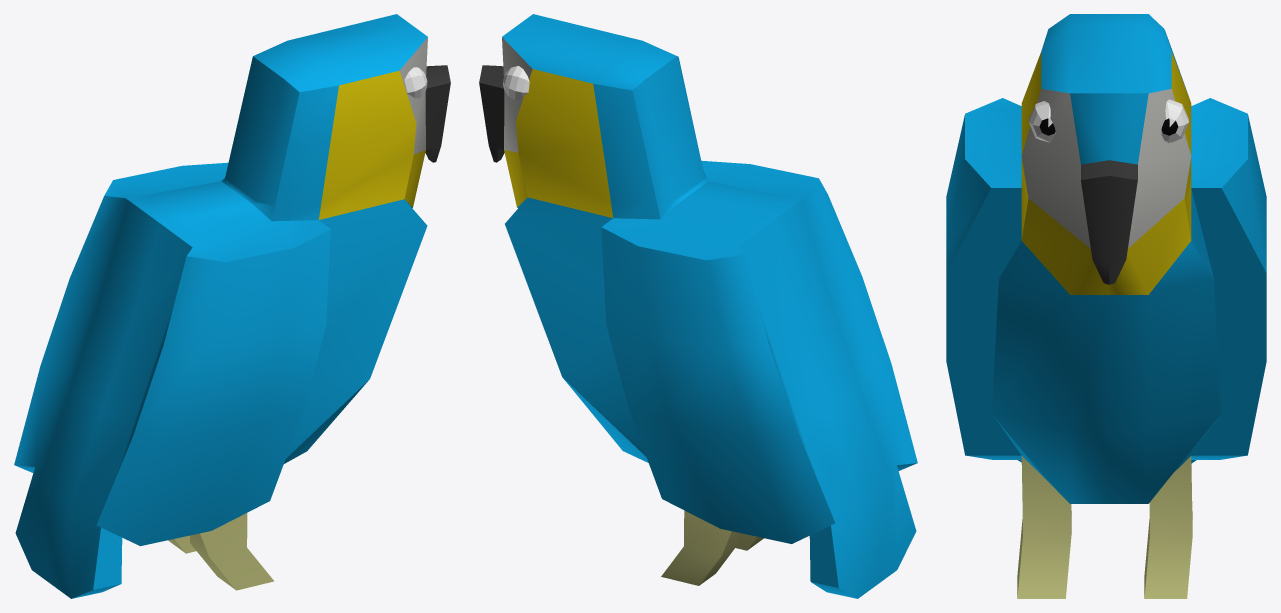
Rendered from bird2.fbx.
3 renders of one model, left to right at view 1: azimuth 30°, elevation 25°; view 2: azimuth 150°, elevation 25°; view 3: azimuth 270°, elevation 25°, orthographic. The views are drawn at different scales.
Parts seen in each view (by area): view 1: pSphere2; view 2: pSphere2; view 3: pSphere2.
Boxes of the visible parts, x1,y1,x2,y2 form: pSphere2: (14,14,450,598); pSphere2: (479,14,917,598); pSphere2: (946,14,1266,598).
Bounding box in the file's own units: 4.29 × 5.04 × 2.39.
